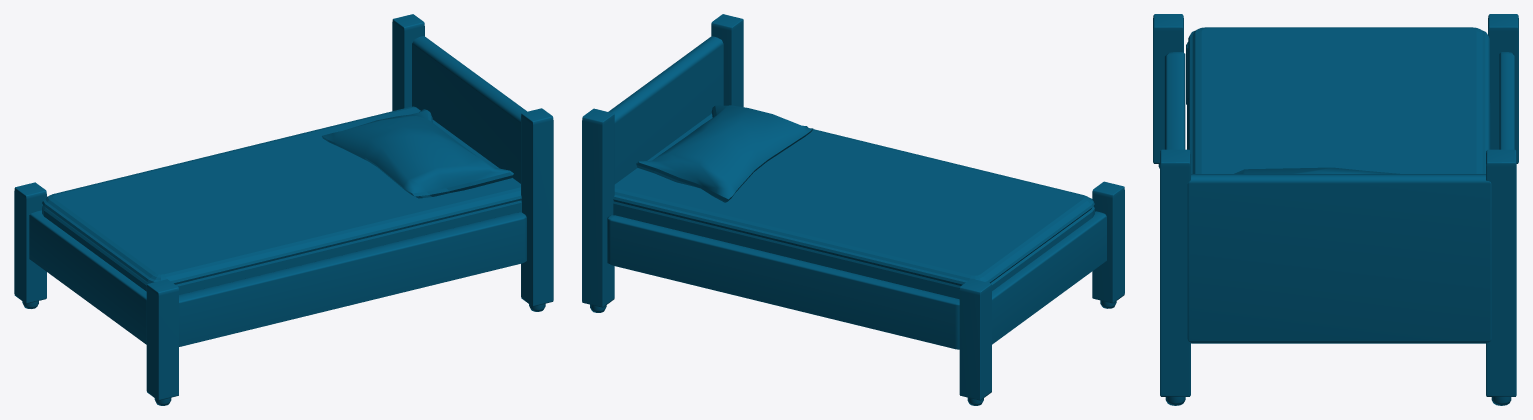
Rendered from SM_Bed.fbx.
3 renders of one model, left to right at view 1: azimuth 30°, elevation 25°; view 2: azimuth 150°, elevation 25°; view 3: azimuth 270°, elevation 25°, orthographic. The views are drawn at different scales.
Parts seen in each view (by area): view 1: SM_Bed; view 2: SM_Bed; view 3: SM_Bed.
Boxes of the visible parts, x1,y1,x2,y2 form: SM_Bed: (14, 14, 553, 405); SM_Bed: (582, 14, 1124, 405); SM_Bed: (1153, 14, 1518, 405).
Size of the model in its own units: 557 by 260 by 350.
